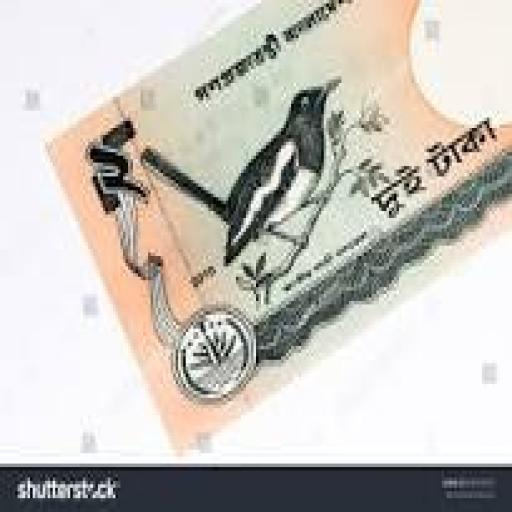2taka: (48, 0, 509, 439)
